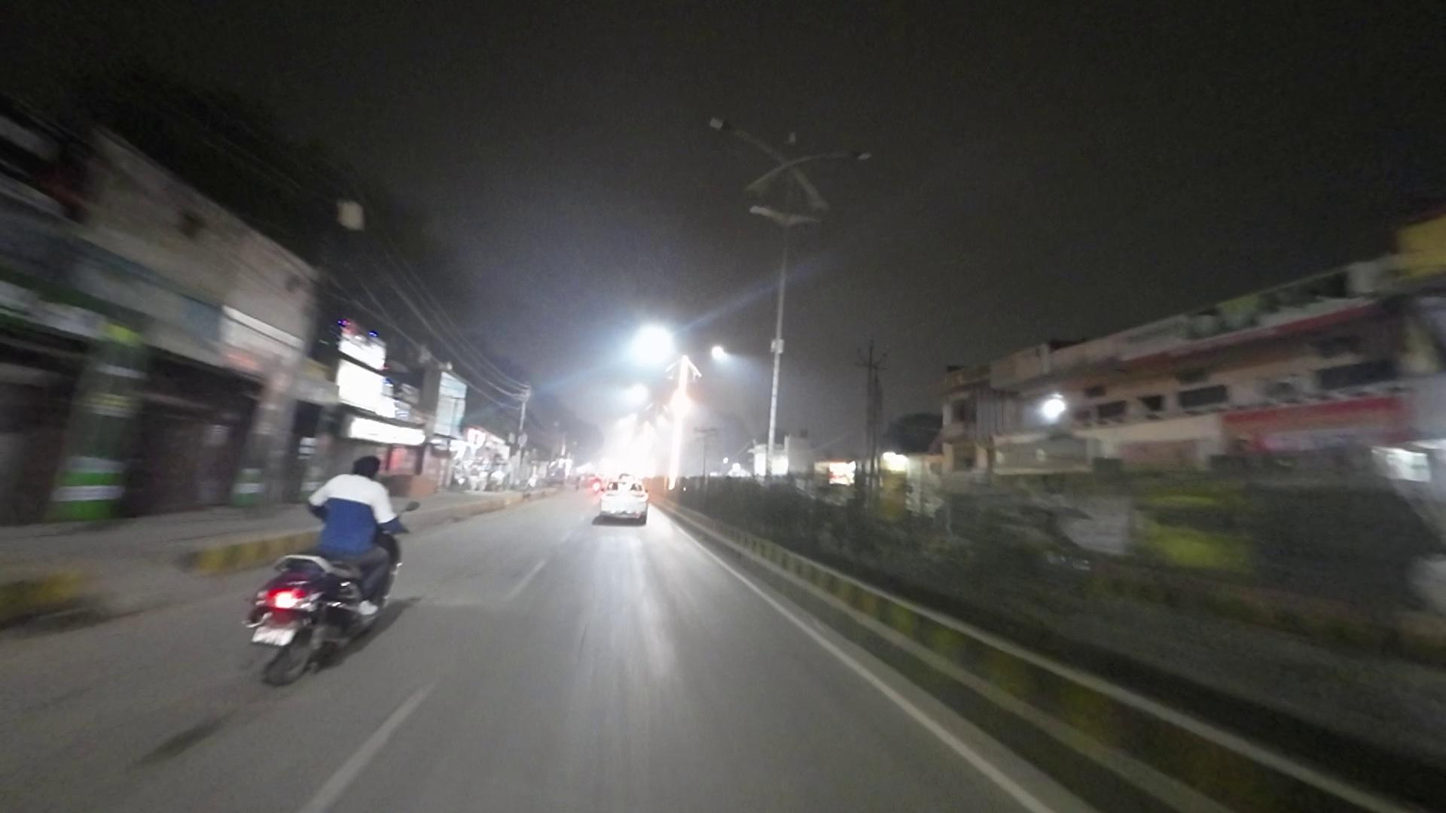streetlight: (705, 111, 785, 163), (801, 146, 874, 169)
